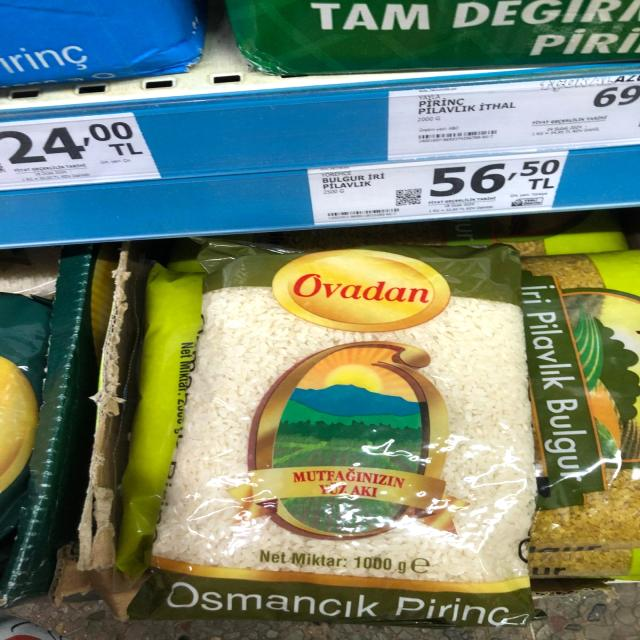rice: (144, 243, 533, 608)
